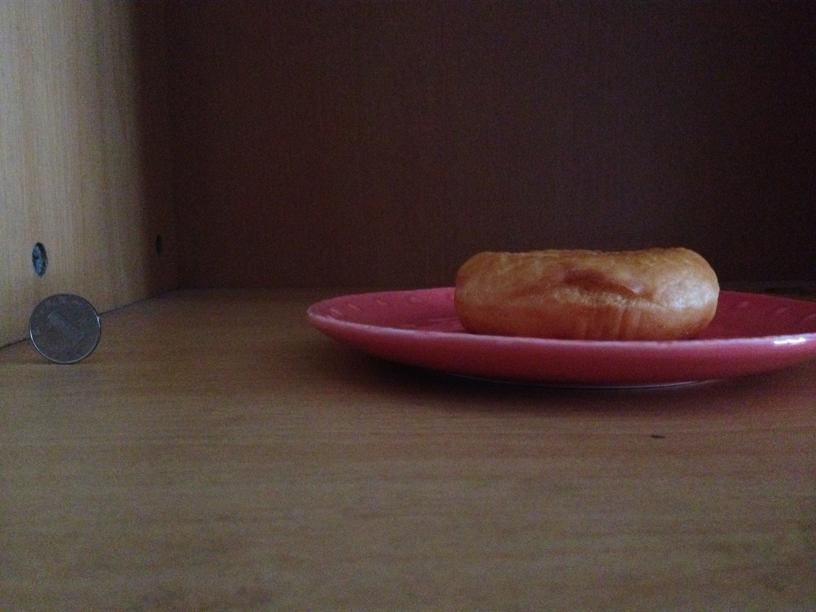coin: (453, 244, 719, 339)
doughnut: (453, 244, 719, 339)
